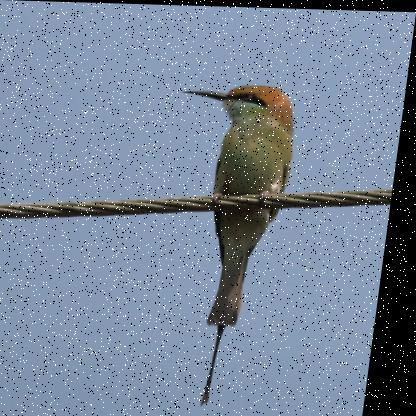Burung: (151, 81, 304, 405)
